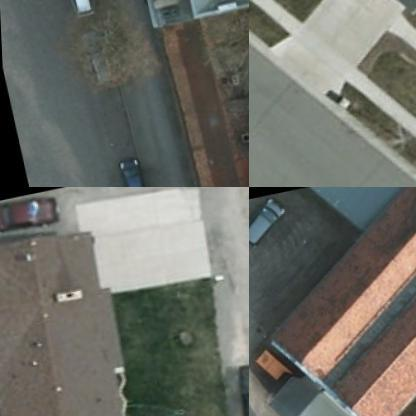car: (0, 192, 62, 244), (81, 35, 120, 92), (249, 197, 289, 249), (108, 159, 146, 186), (59, 0, 97, 21)
pickup: (224, 358, 248, 415)
